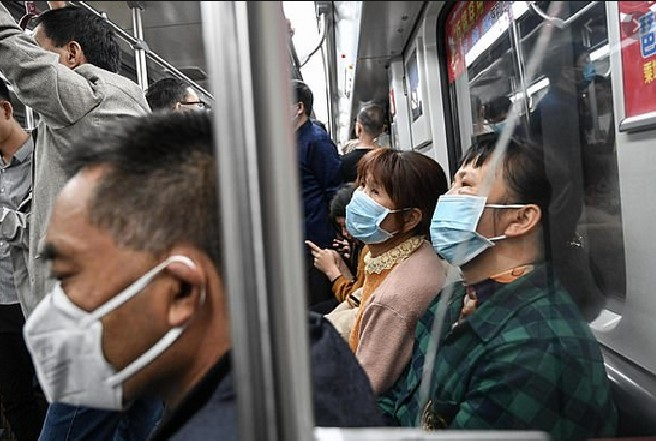face_with_mask: (27, 120, 215, 414), (427, 137, 575, 270), (340, 154, 444, 249)
